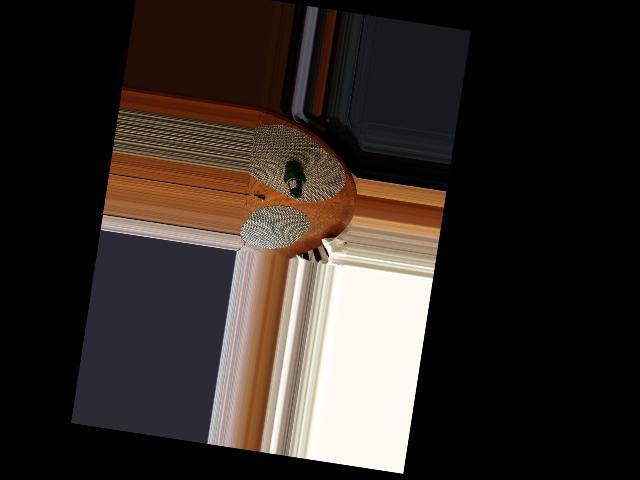beer: (281, 159, 309, 198)
